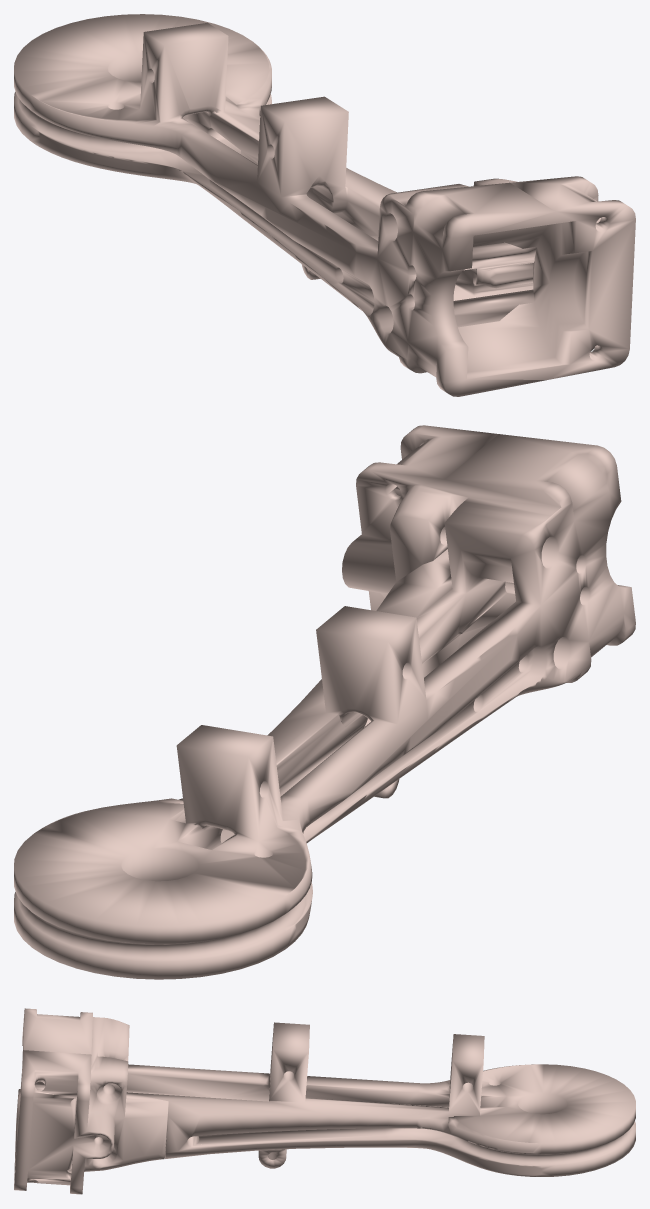
The model's file is index_bulk_1.obj.
3 renders of one model, top to bottom at view 1: azimuth 30°, elevation 25°; view 2: azimuth 150°, elevation 25°; view 3: azimuth 270°, elevation 25°, orthographic. The views are drawn at different scales.
Bounding box in the file's own units: 33.78 × 24.55 × 99.86.
